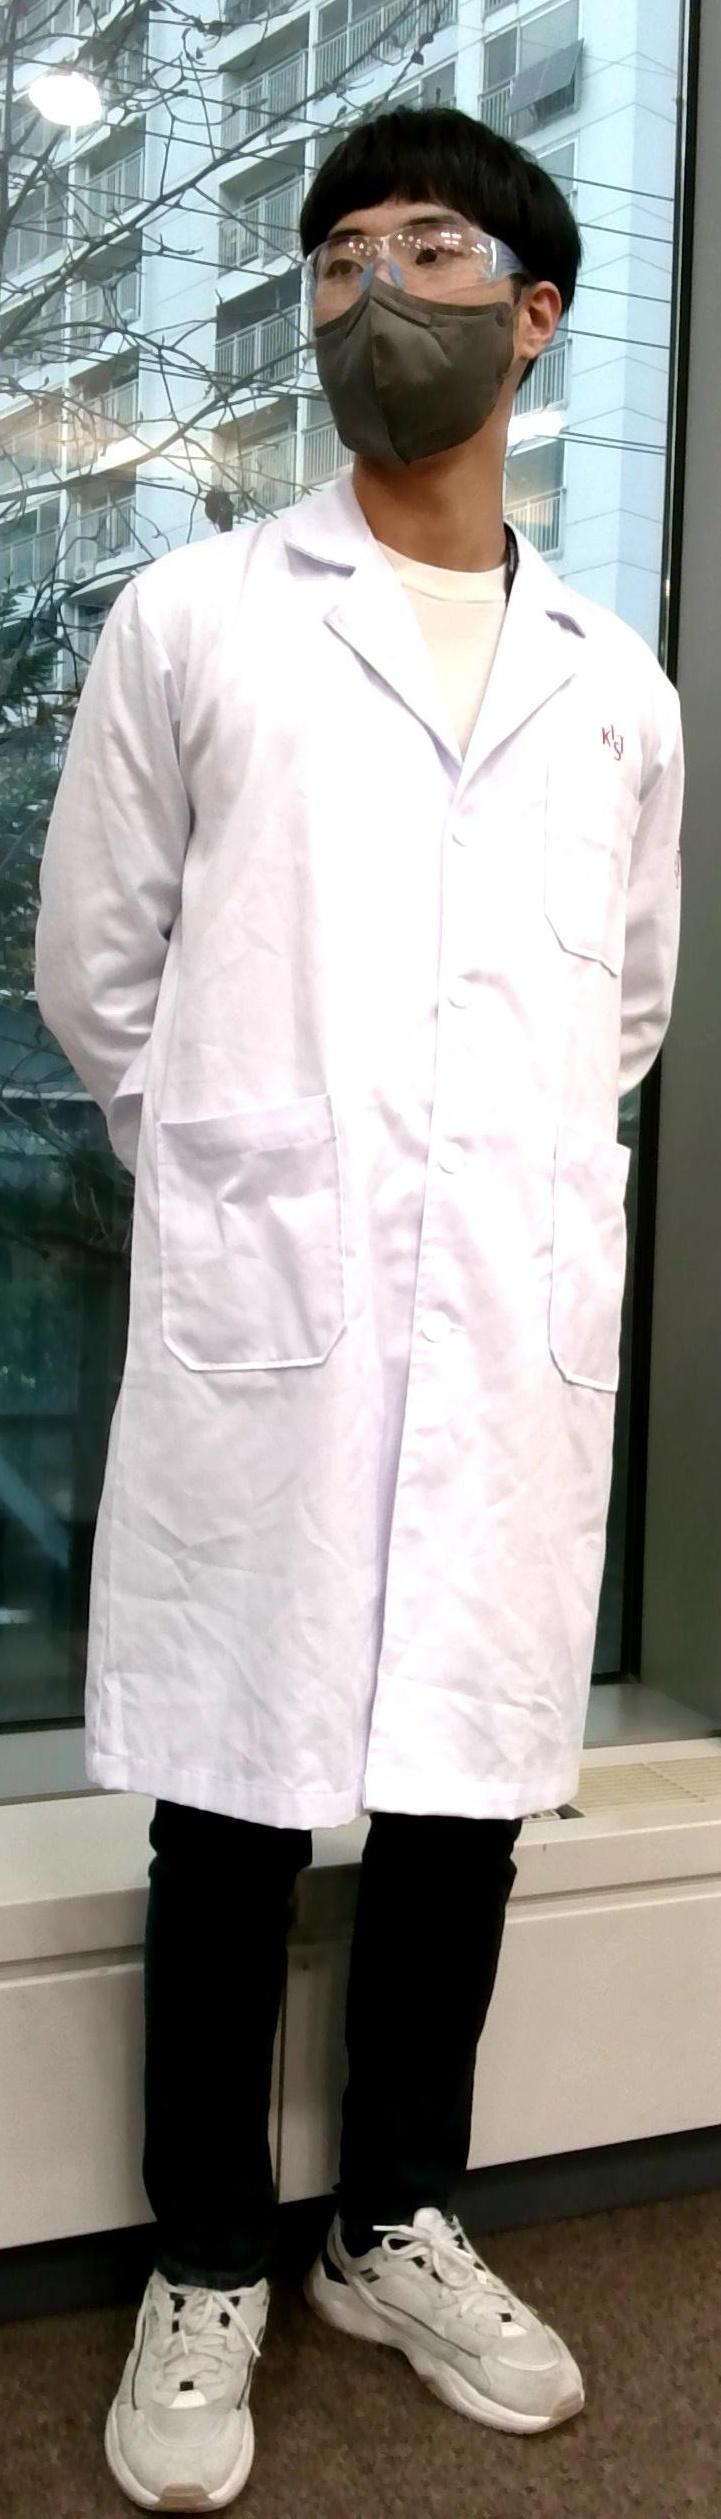lab_coat: (66, 537, 699, 1780)
